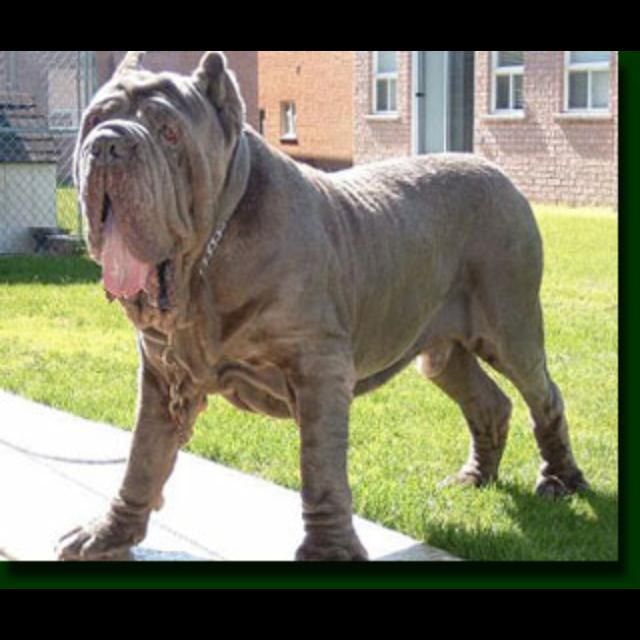mastino_napoletano: (53, 52, 591, 562)
